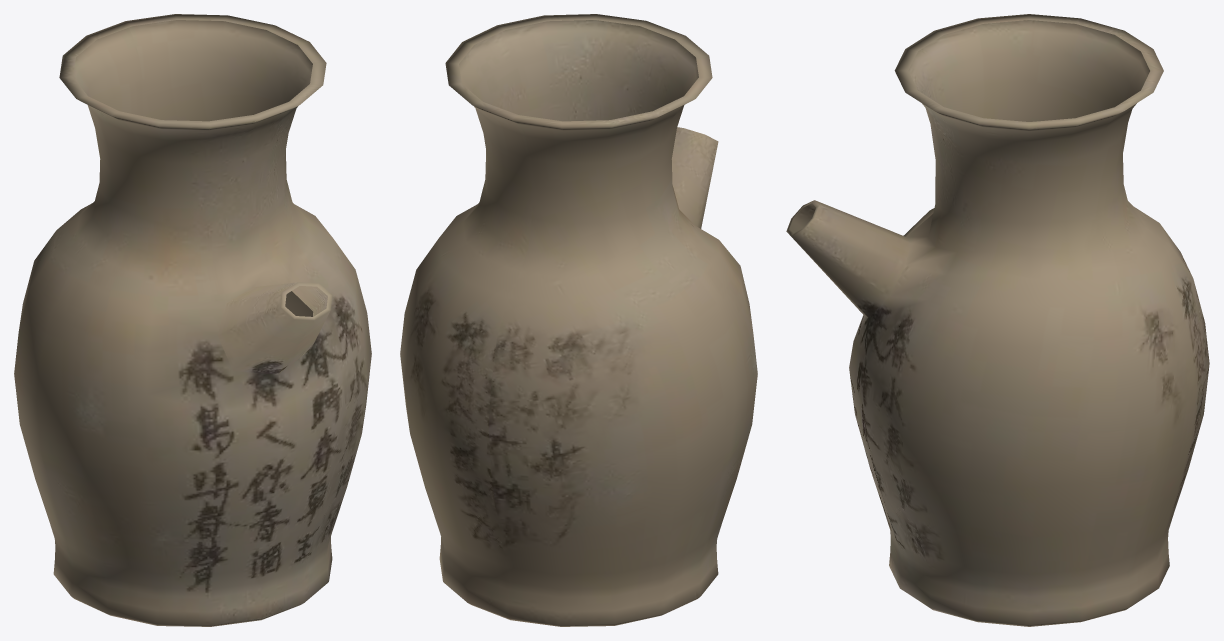
File: artifact_poem.glb
3 renders of one model, left to right at view 1: azimuth 30°, elevation 25°; view 2: azimuth 150°, elevation 25°; view 3: azimuth 270°, elevation 25°, orthographic.
Parts seen in each view (by area): view 1: poem; view 2: poem; view 3: poem.
Boxes of the visible parts, x1,y1,x2,y2 form: poem: [14, 14, 371, 626]; poem: [400, 14, 757, 626]; poem: [786, 14, 1209, 626].
Size of the model in its own units: 1.3 by 1.99 by 1.53.
1 material, 1 textured.
